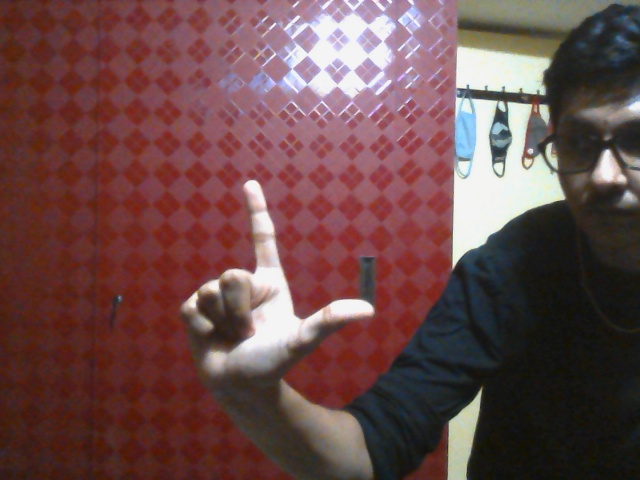L: (177, 180, 375, 375)
